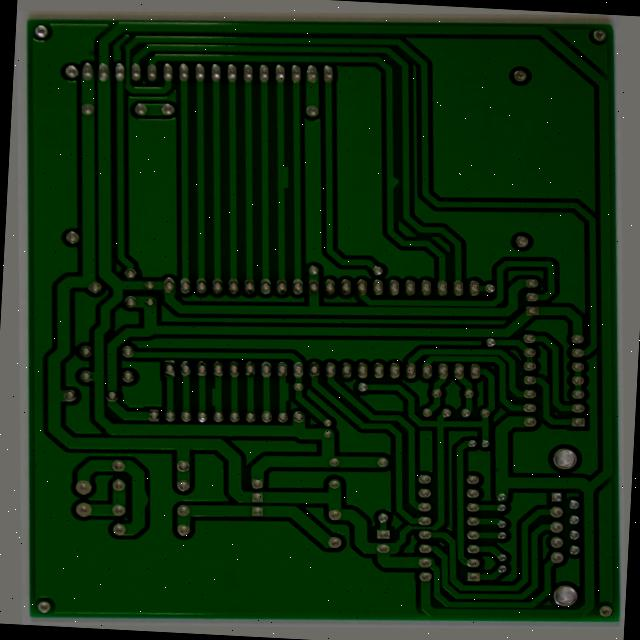spur: (277, 150, 299, 189), (110, 483, 129, 512), (395, 170, 415, 193), (193, 381, 209, 409), (270, 379, 285, 408)
